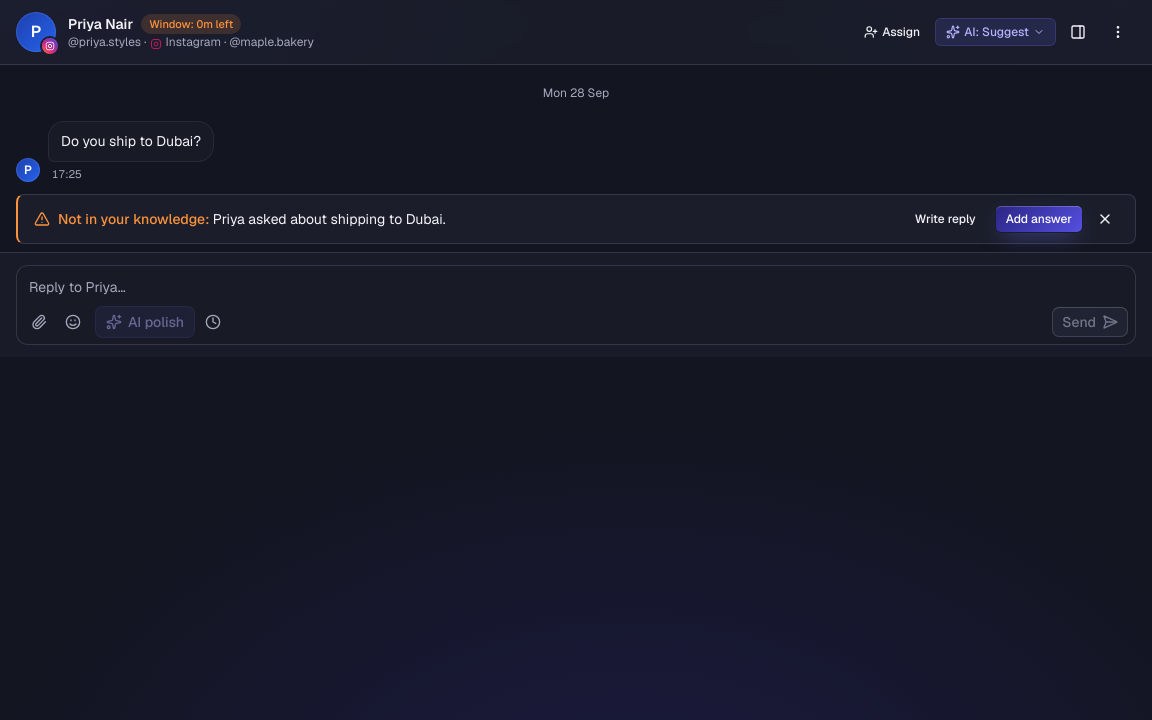
Test: Not in your knowledge (FR-SUG-03, F-08) › Add answer opens the FAQ form with the customer's question and saves it
Expected: the text "Priya asked about shipping to Dubai." is shown, [213,210,446,228]
Click the button "Add answer" at point(1039, 219), box [995,205,1083,233]
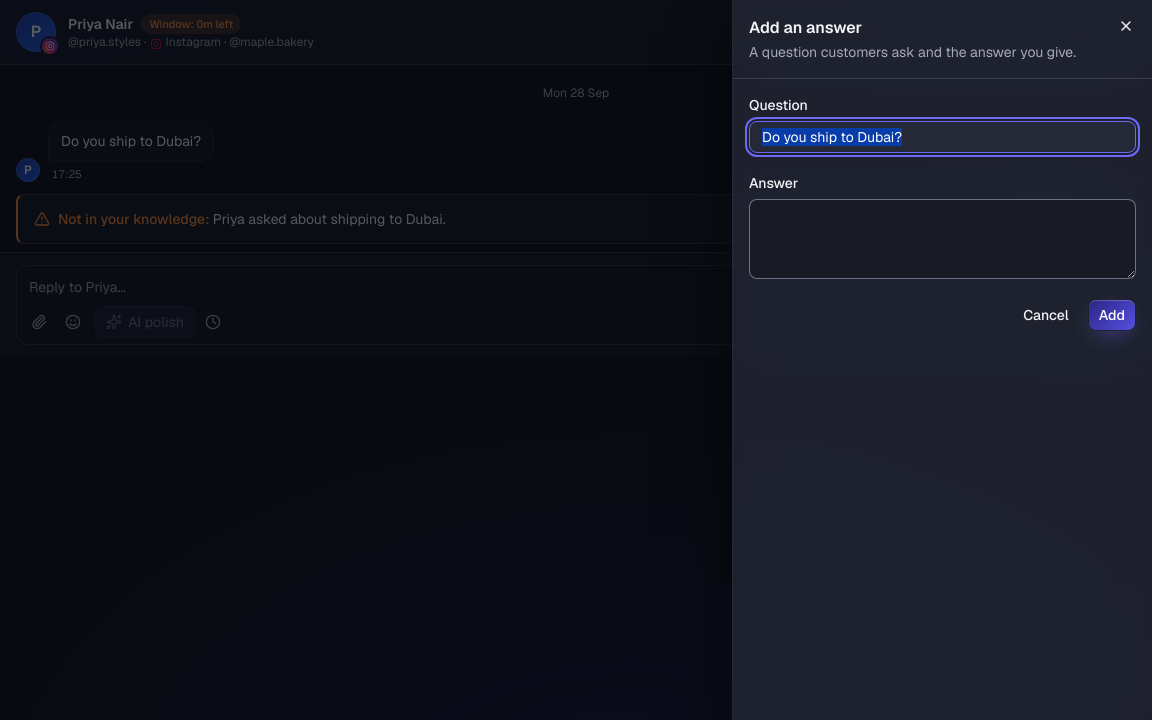
Now the field labelled "Question" holds "Do you ship to Dubai?", box [749,121,1136,153]
Type "Yes, 5–7 business days, free over ₹3,000." into the text box labelled "Answer" at point(942, 239), box [749,199,1136,279]
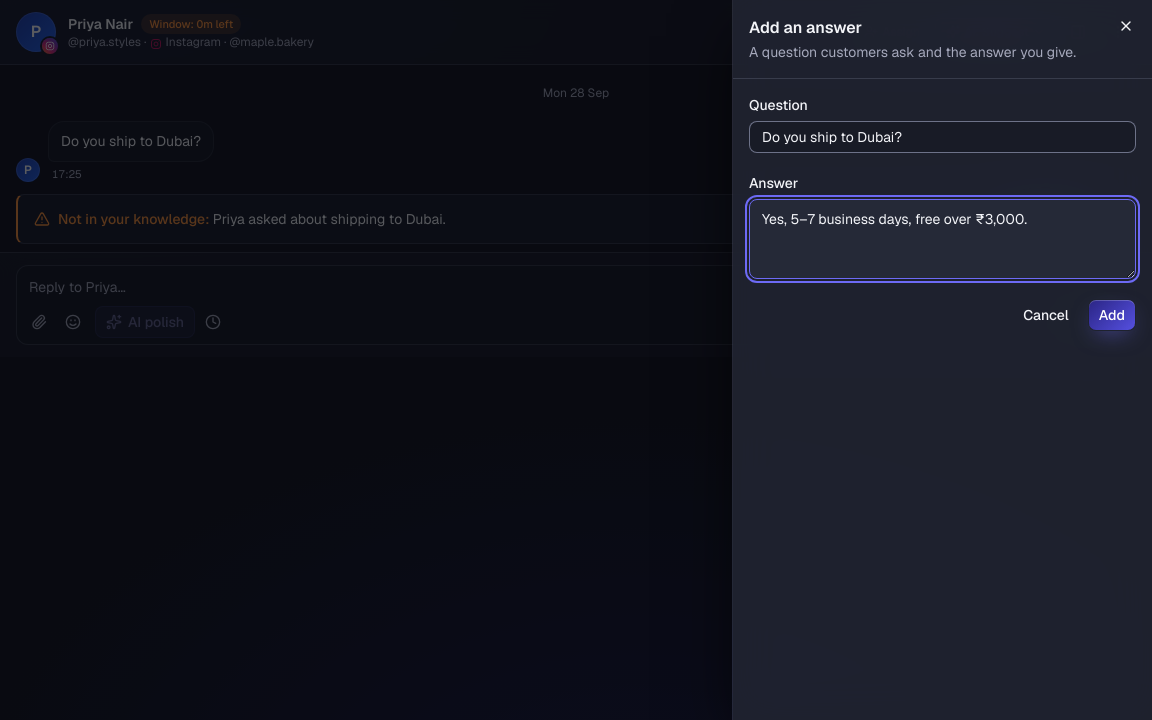
Click the button "Add" at point(1112, 315), box [1088,299,1136,331]
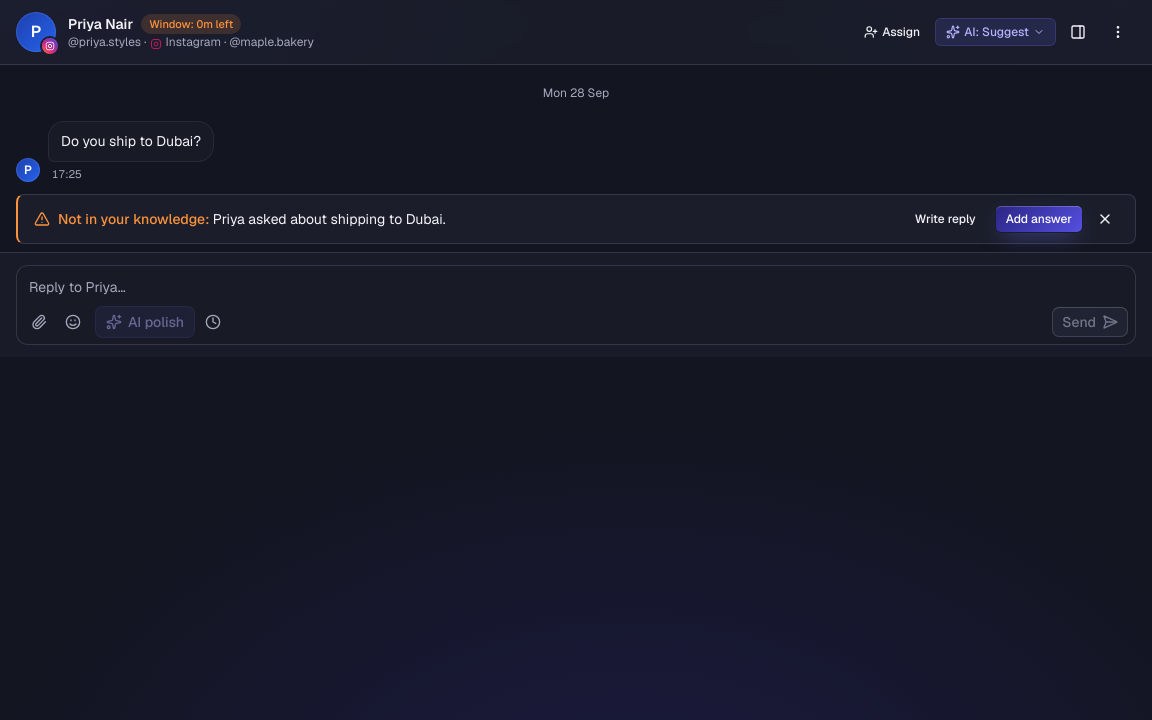
Now the heading "Add an answer" is gone
